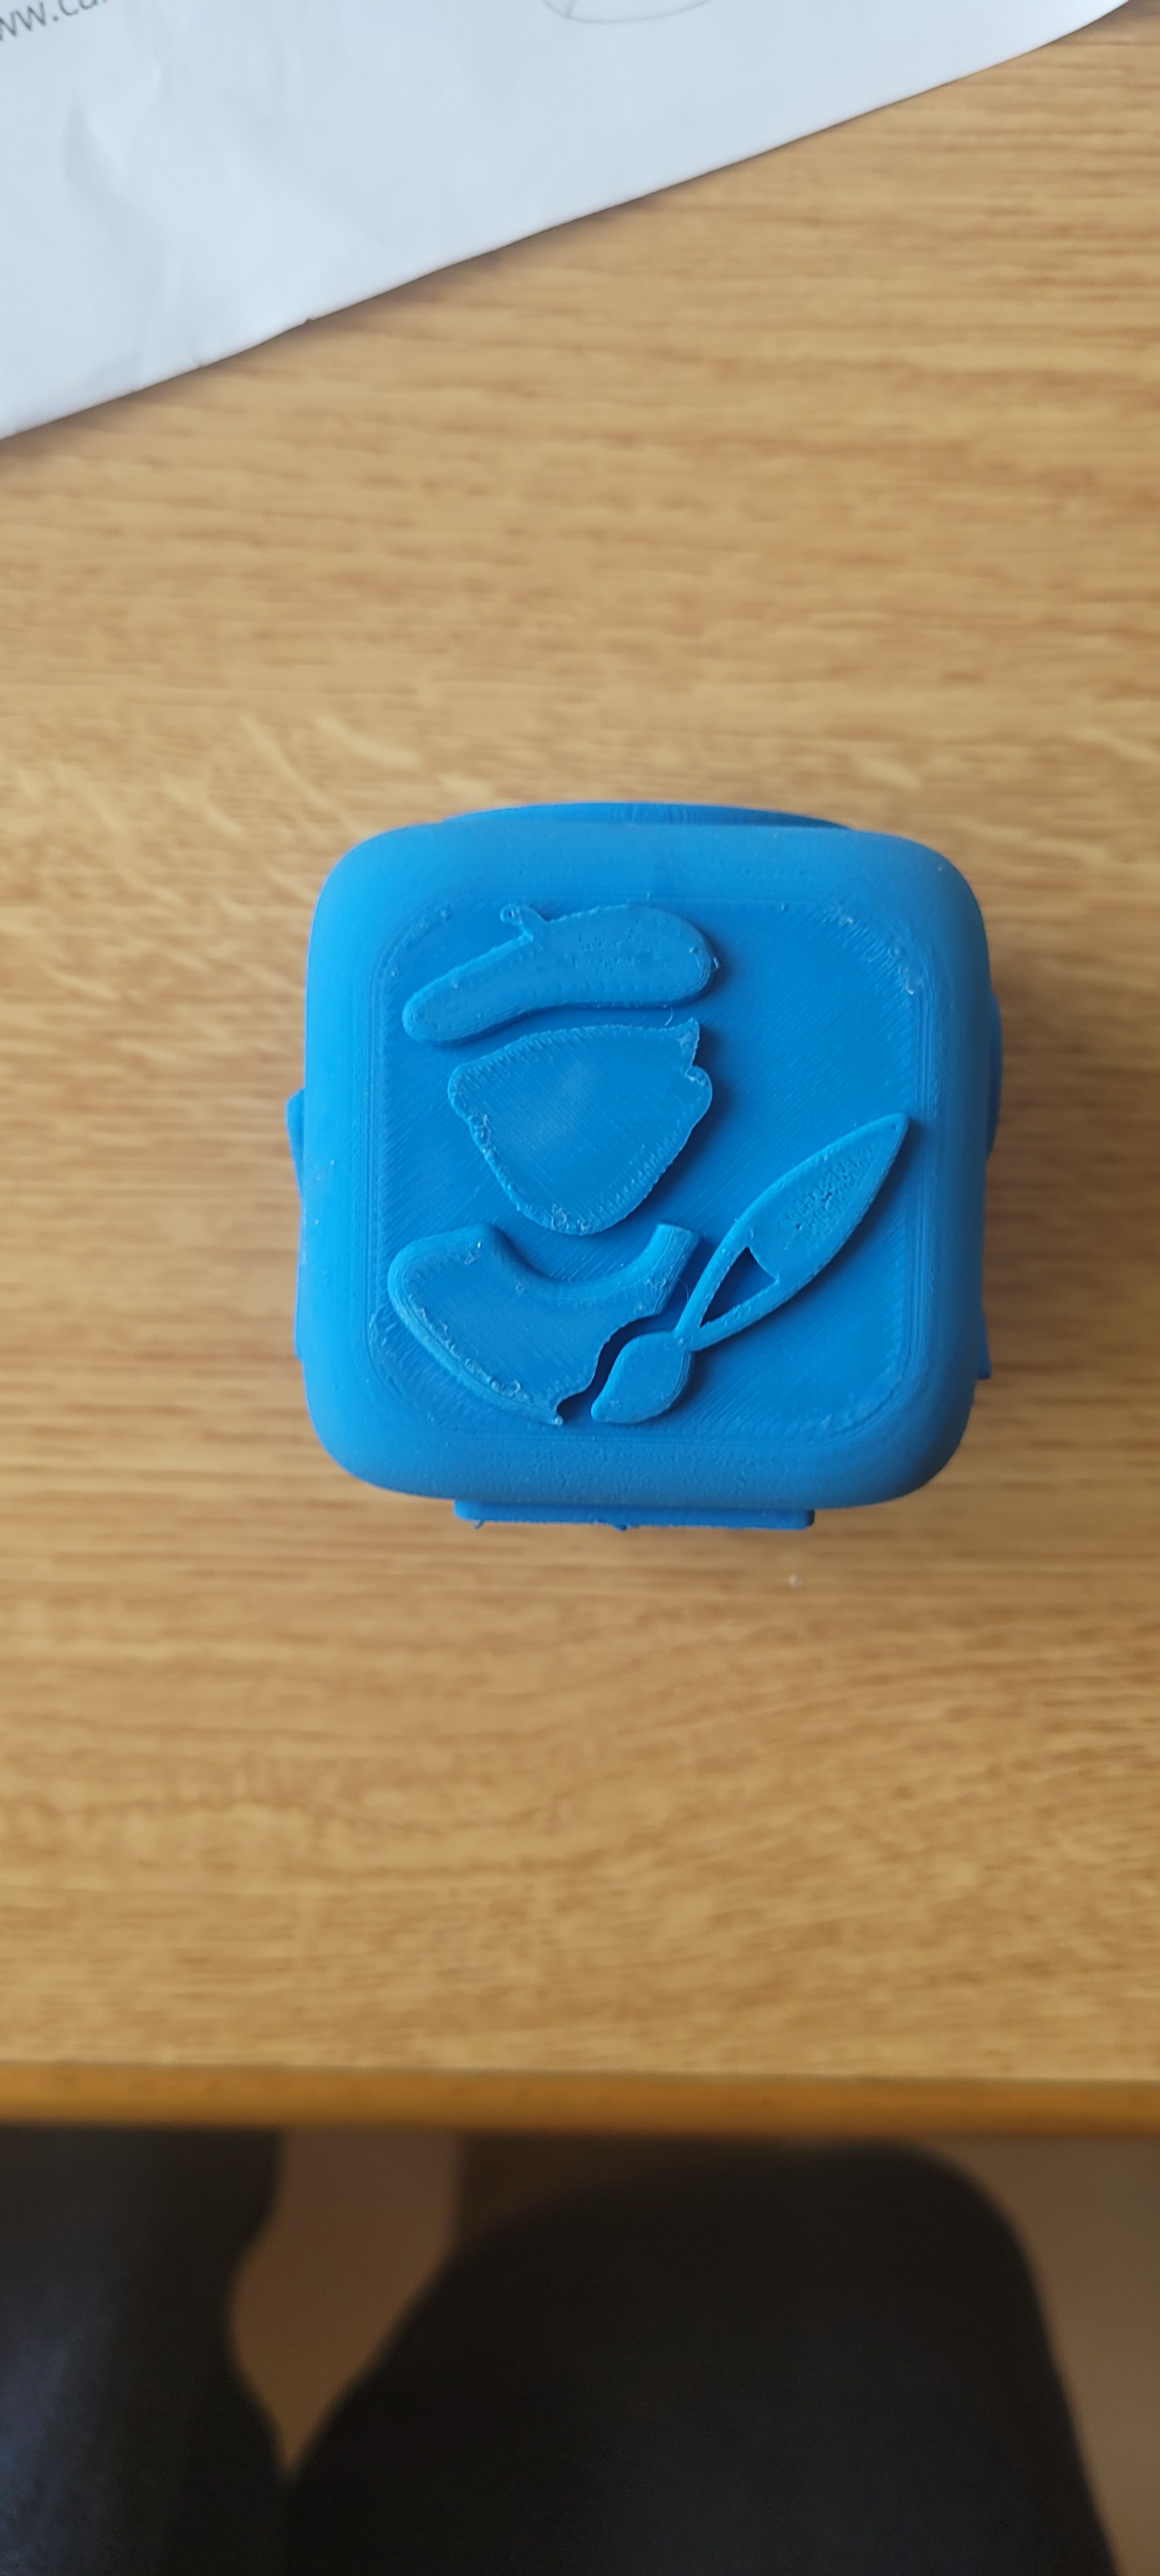Artist_Info: (268, 774, 1010, 1559)
